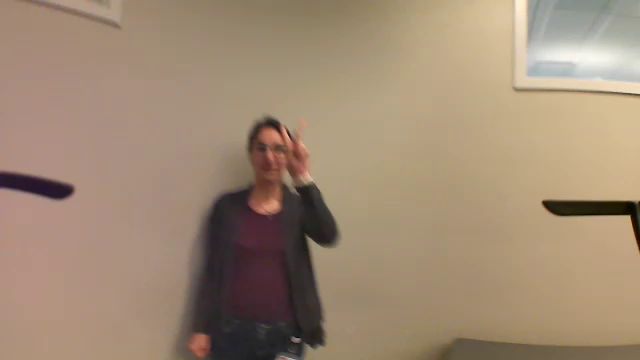peace: (276, 111, 315, 171)
